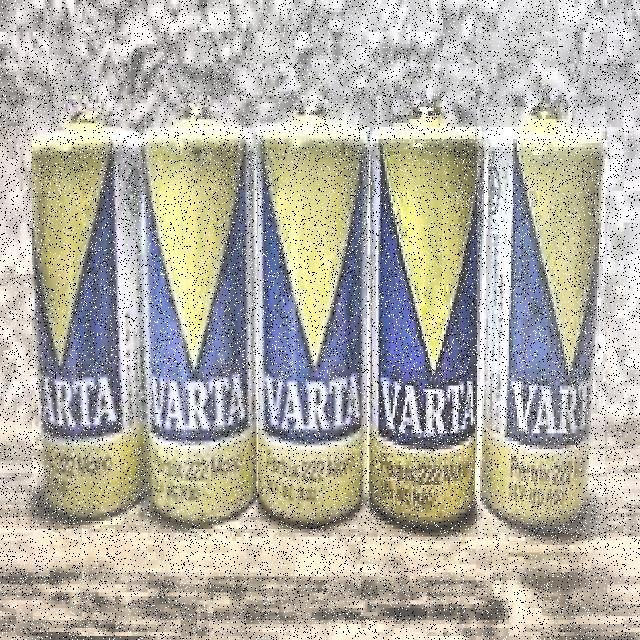B3: (19, 99, 624, 551)
